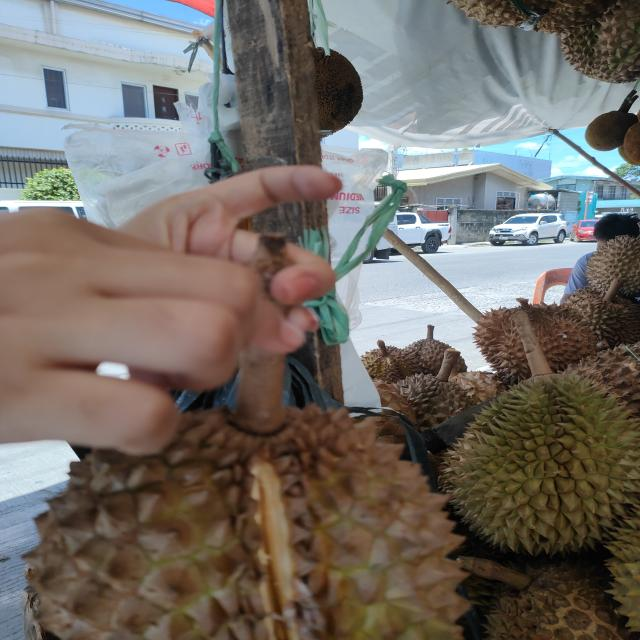defective: (13, 396, 478, 640)
